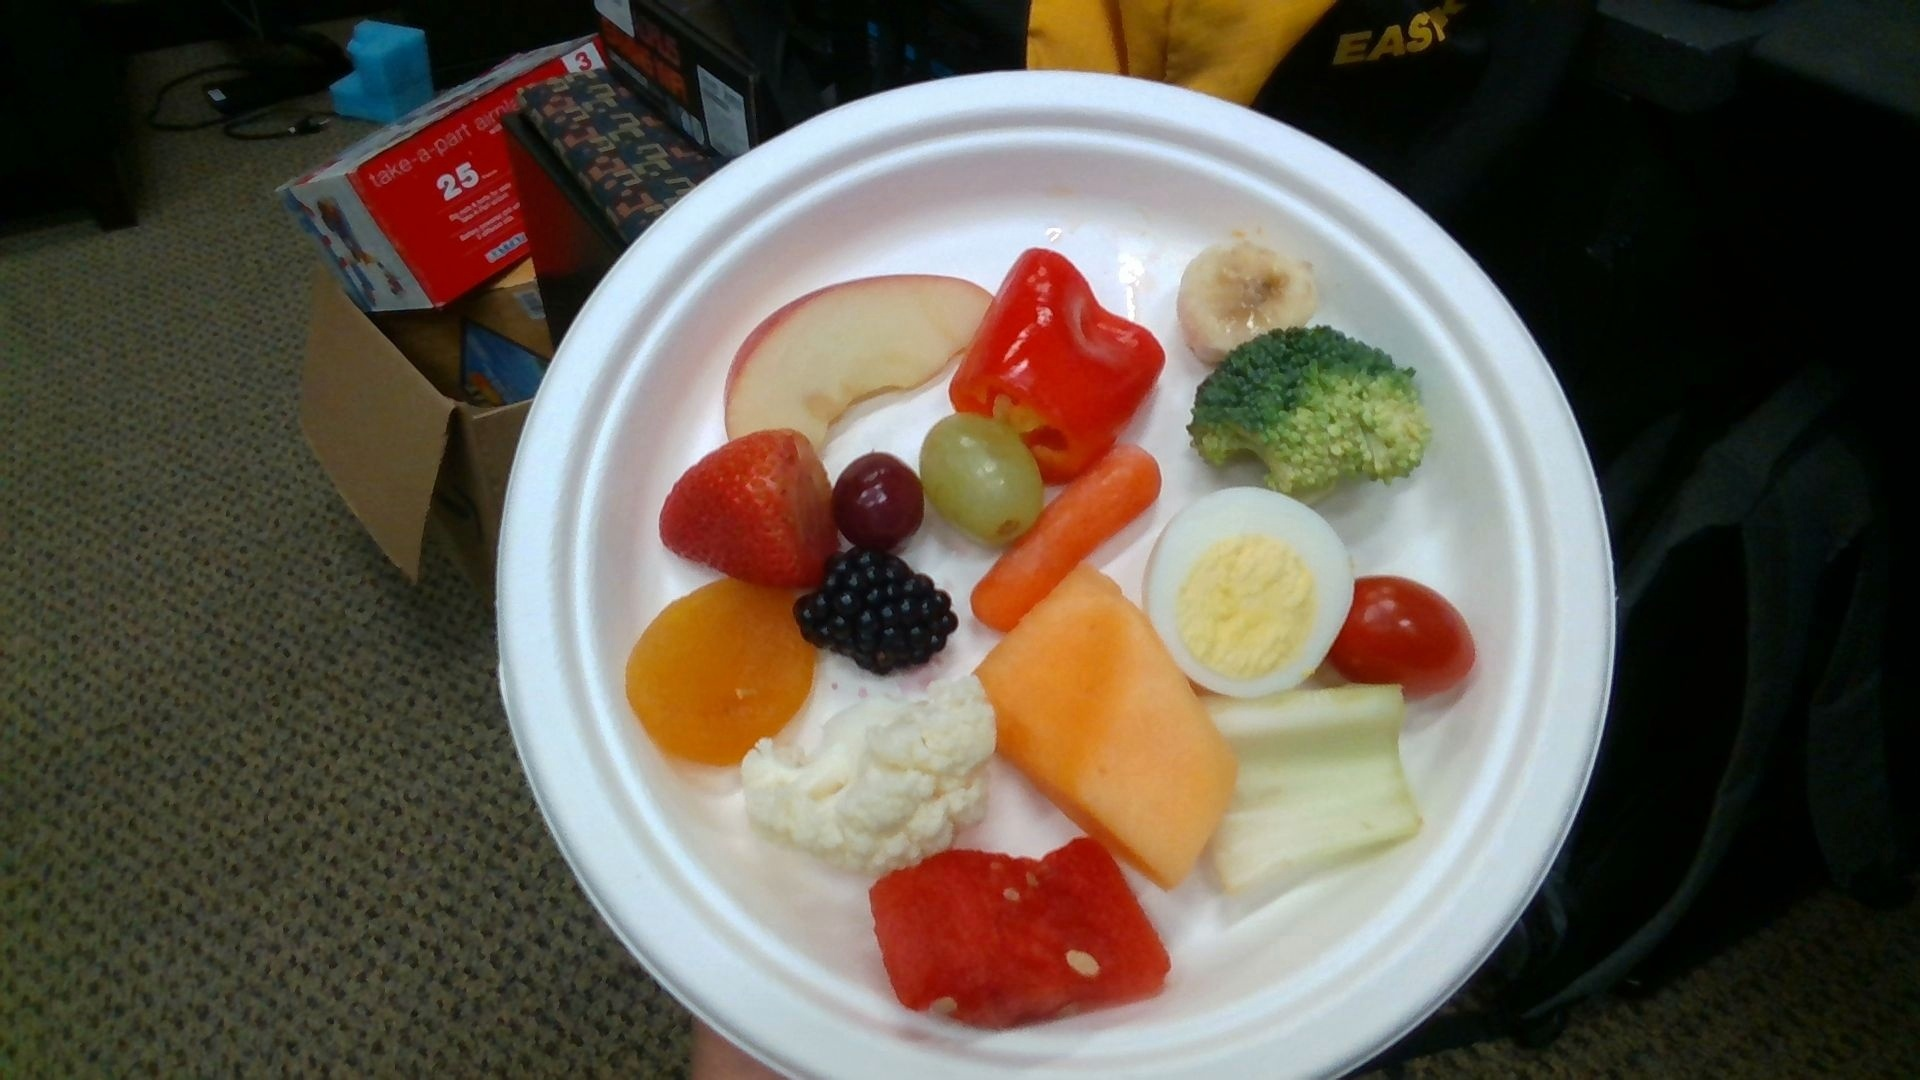apple: (725, 276, 994, 443)
apricot: (629, 576, 815, 760)
banana: (1179, 235, 1323, 365)
bell_pepper: (952, 251, 1164, 483)
blackberry: (799, 549, 957, 671)
broccoli: (1187, 328, 1429, 491)
cantalope: (975, 566, 1237, 884)
carrot: (972, 446, 1159, 630)
cauliflower: (740, 675, 994, 868)
celery: (1215, 684, 1420, 890)
cherry_tomato: (1329, 578, 1477, 695)
egg: (1145, 487, 1356, 694)
grape_green: (922, 413, 1044, 541)
grape_purple: (833, 446, 922, 549)
melon: (865, 841, 1167, 1029)
strawberry: (662, 431, 829, 583)
